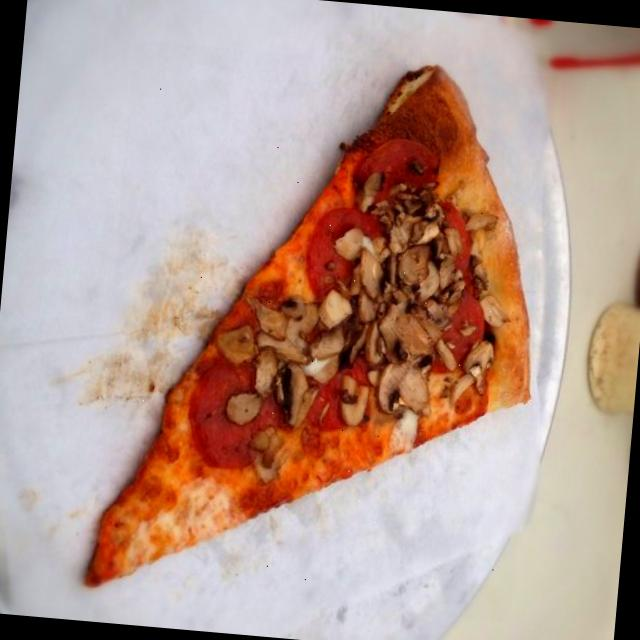mushrooms: (368, 202, 456, 412), (210, 294, 322, 372), (338, 246, 402, 366), (290, 290, 362, 385), (250, 348, 315, 427), (450, 340, 494, 407), (249, 428, 286, 478), (220, 388, 262, 427), (339, 381, 373, 426), (356, 170, 388, 215)
pepperoni: (186, 349, 286, 474), (304, 202, 402, 305), (349, 134, 444, 224), (297, 336, 384, 429), (420, 274, 489, 386), (440, 202, 476, 274)
pizza: (87, 65, 529, 585)
